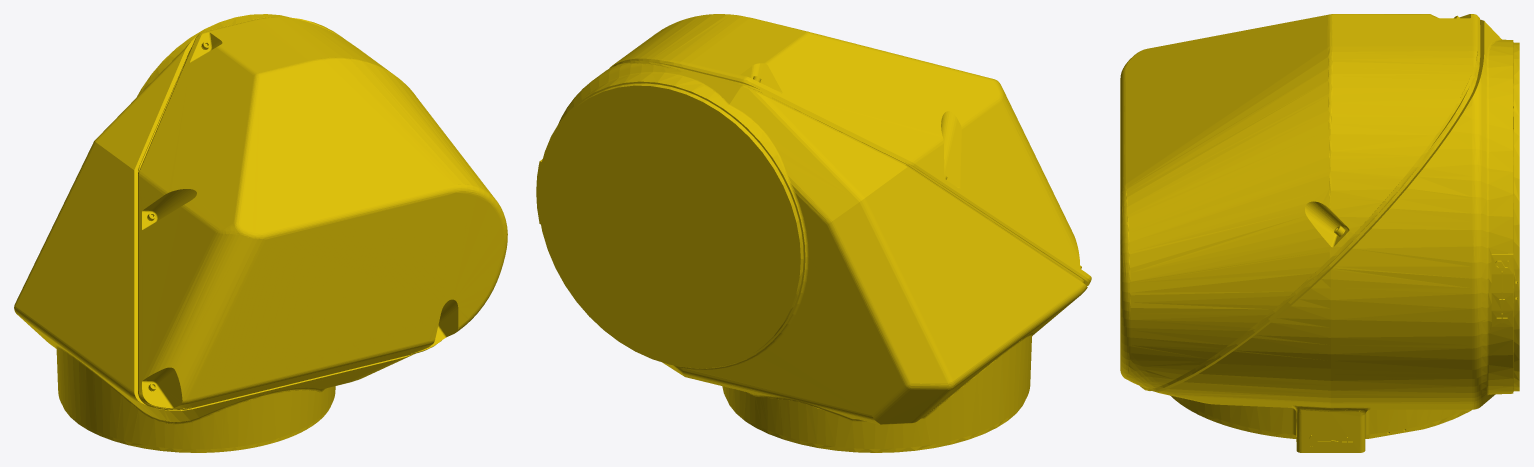
3 views of the same model, side by side, from view 1: azimuth 30°, elevation 25°; view 2: azimuth 150°, elevation 25°; view 3: azimuth 270°, elevation 25° (orthographic). The views are drawn at different scales.
Parts seen in each view (by area): view 1: link_1; view 2: link_1; view 3: link_1.
Boxes of the visible parts, x1=… form: link_1: x1=14, y1=14, x2=507, y2=452; link_1: x1=536, y1=14, x2=1091, y2=452; link_1: x1=1120, y1=14, x2=1519, y2=452.
Size of the model in its own units: 0.488 by 0.3615 by 0.3905.
